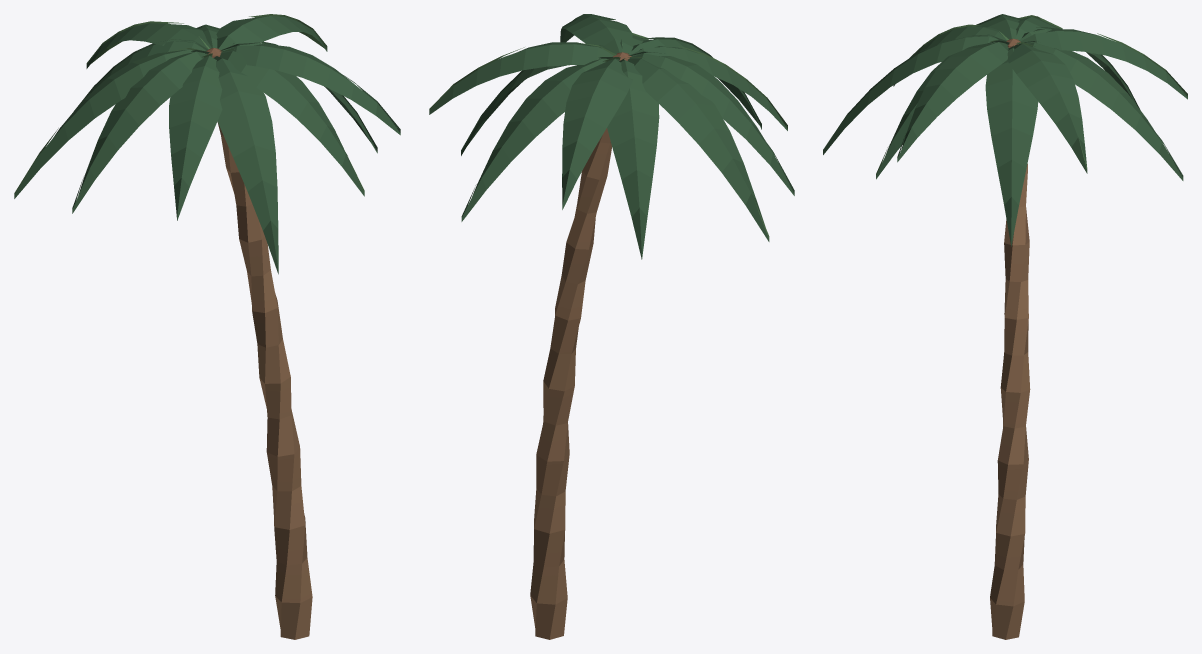
Rendered from palm_tall.glb.
3 renders of one model, left to right at view 1: azimuth 30°, elevation 25°; view 2: azimuth 150°, elevation 25°; view 3: azimuth 270°, elevation 25°, orthographic. The views are drawn at different scales.
Parts seen in each view (by area): view 1: palm_tall.001; view 2: palm_tall.001; view 3: palm_tall.001.
Part boxes in pixels (bbox=[...]): palm_tall.001: bbox=[14, 14, 400, 639]; palm_tall.001: bbox=[429, 14, 794, 639]; palm_tall.001: bbox=[823, 14, 1187, 639].
Bounding box in the file's own units: 4.8 × 8.34 × 4.85.
Materials: 1 (1 with a texture image).
